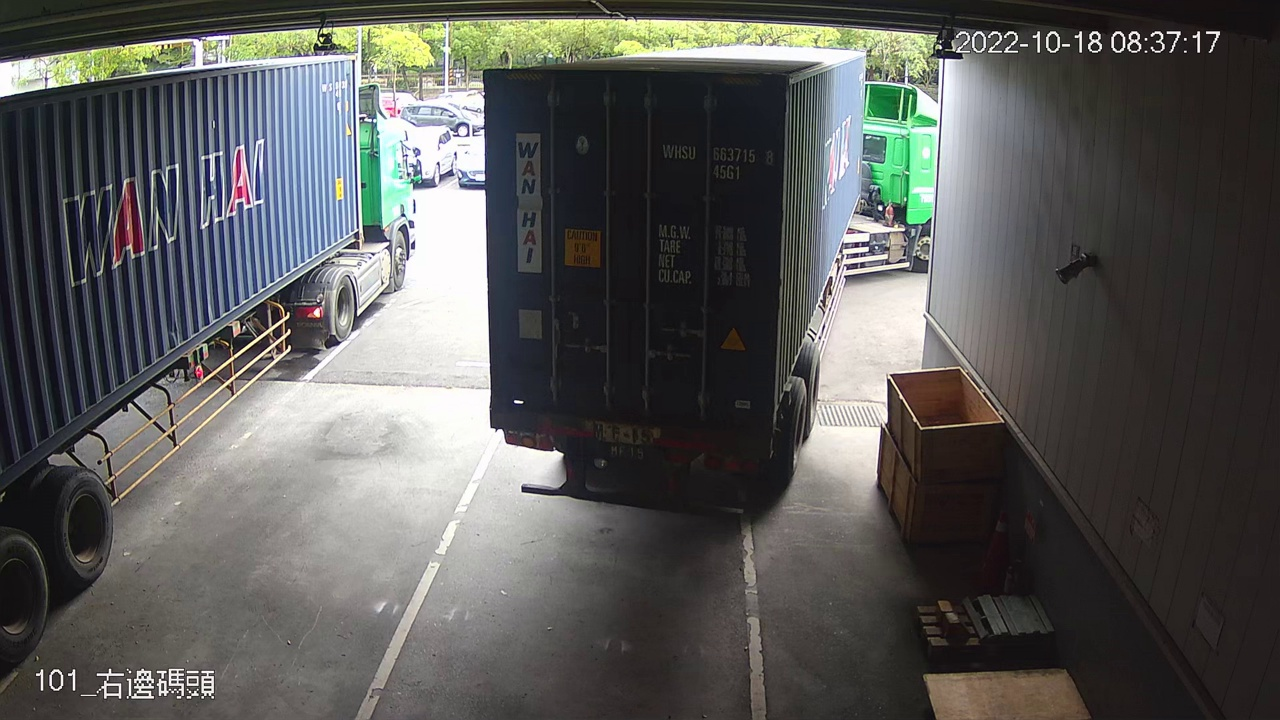container: (657, 136, 778, 187)
